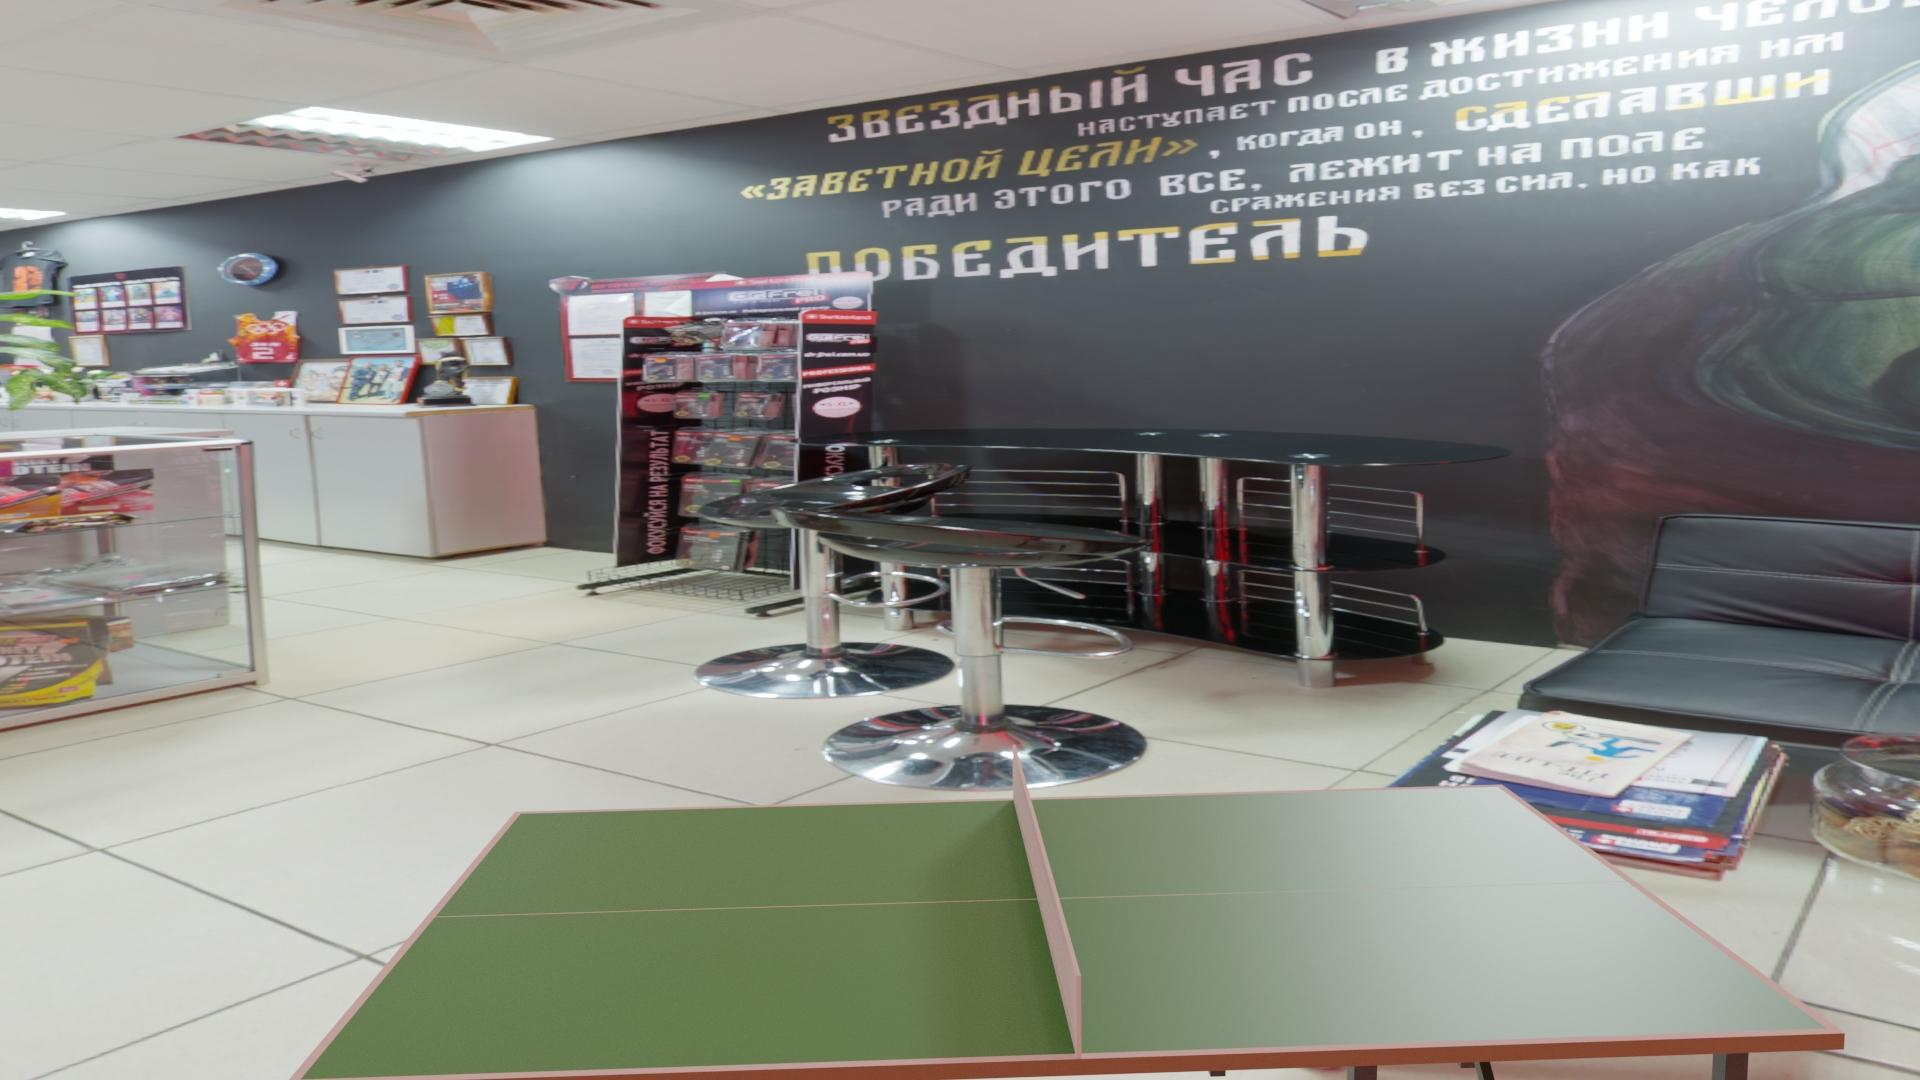table: (301, 787, 1828, 1080)
